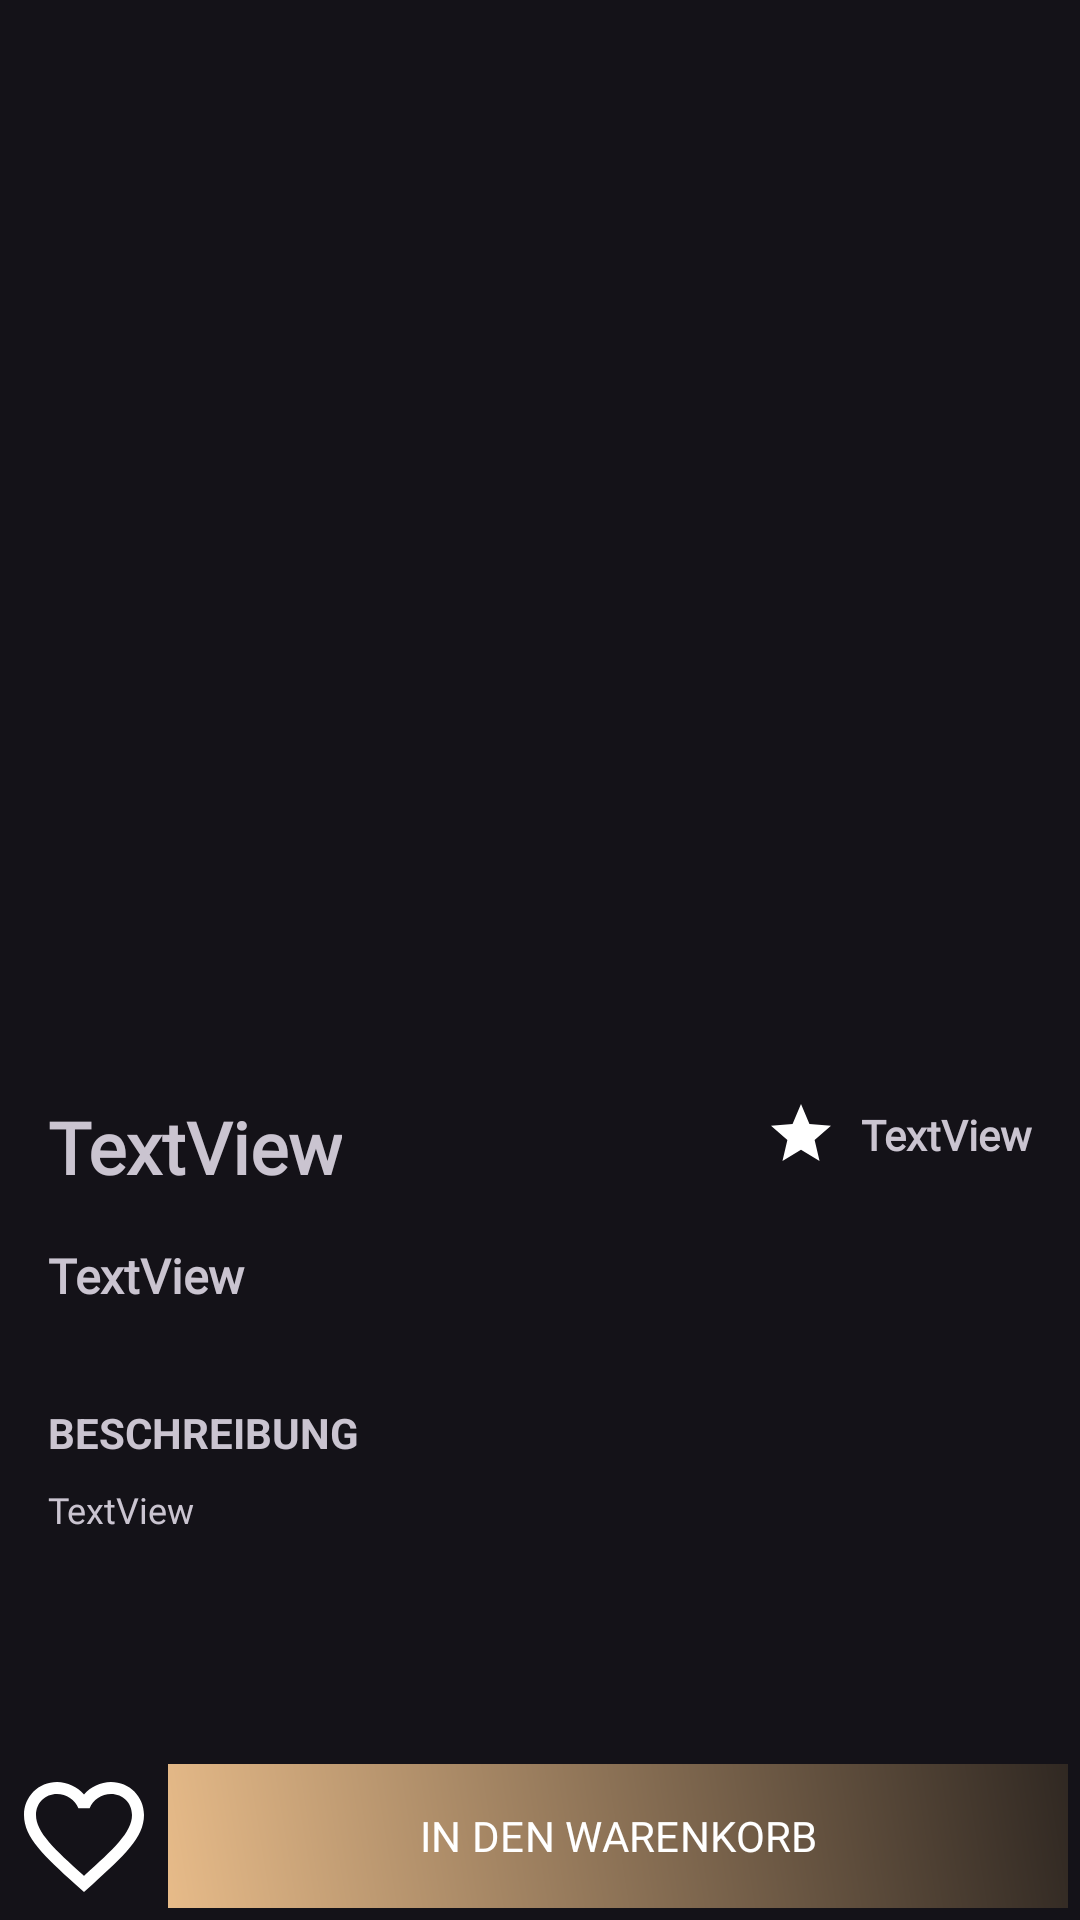

Icons on this 1080 x 1920 Android screen, each with its box as (x1, y1, x2, y2):
favorite border: (24, 1782, 144, 1892)
star: (771, 1104, 831, 1161)
